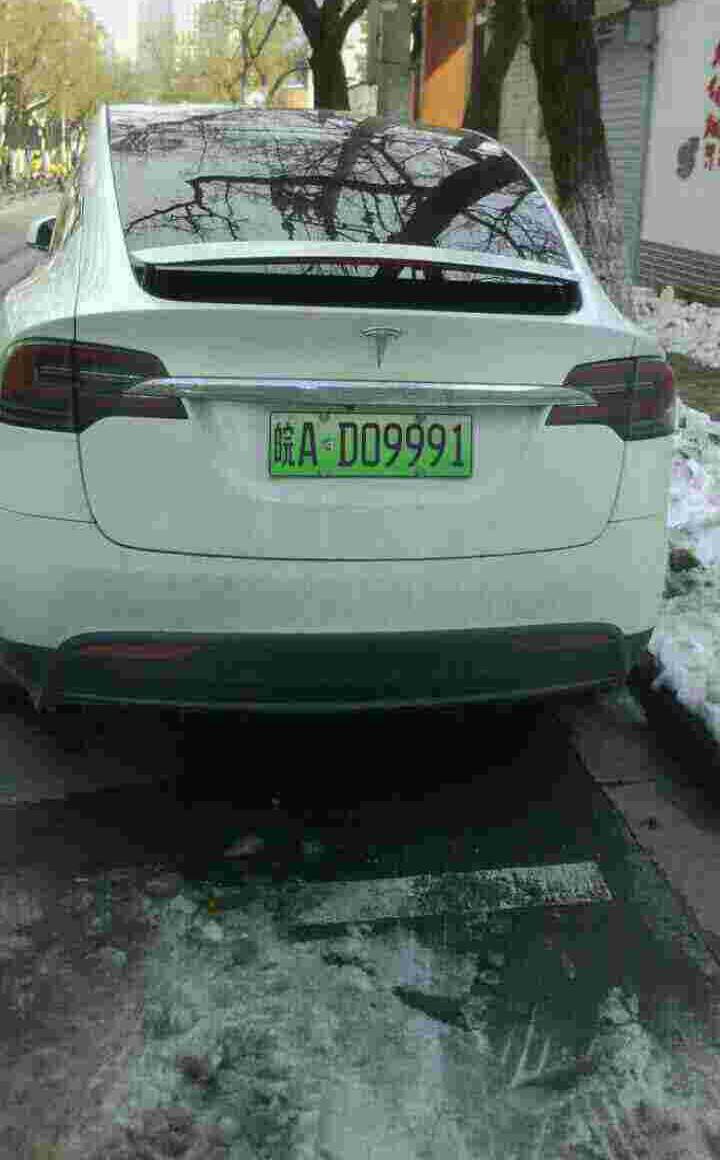car: (264, 413, 479, 478)
